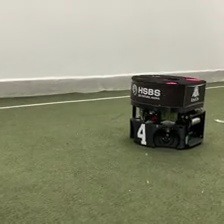robot: (127, 72, 207, 151)
